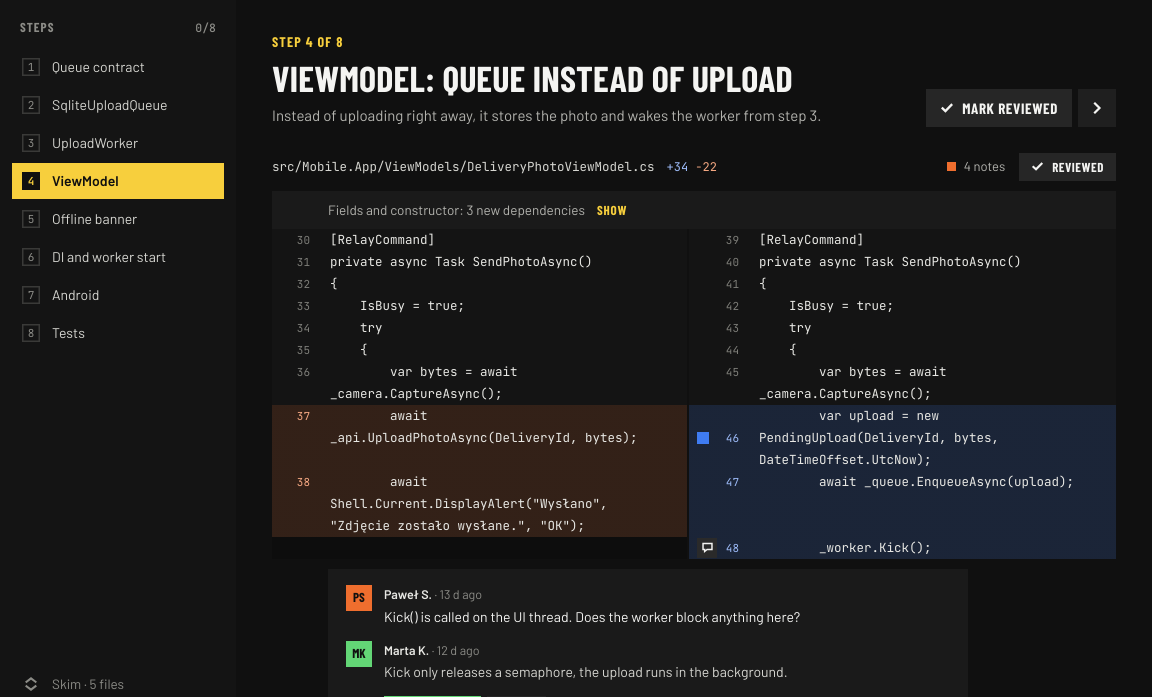
S-03 layout A › F-07.5 a severity square per note; a square opens its note under the line
This screenshot has width=1152, height=697.
Step 1. Click the button named "Note 1: The whole photo goes into SQLite as byte[]" → (703, 438), box [697,432,709,444]
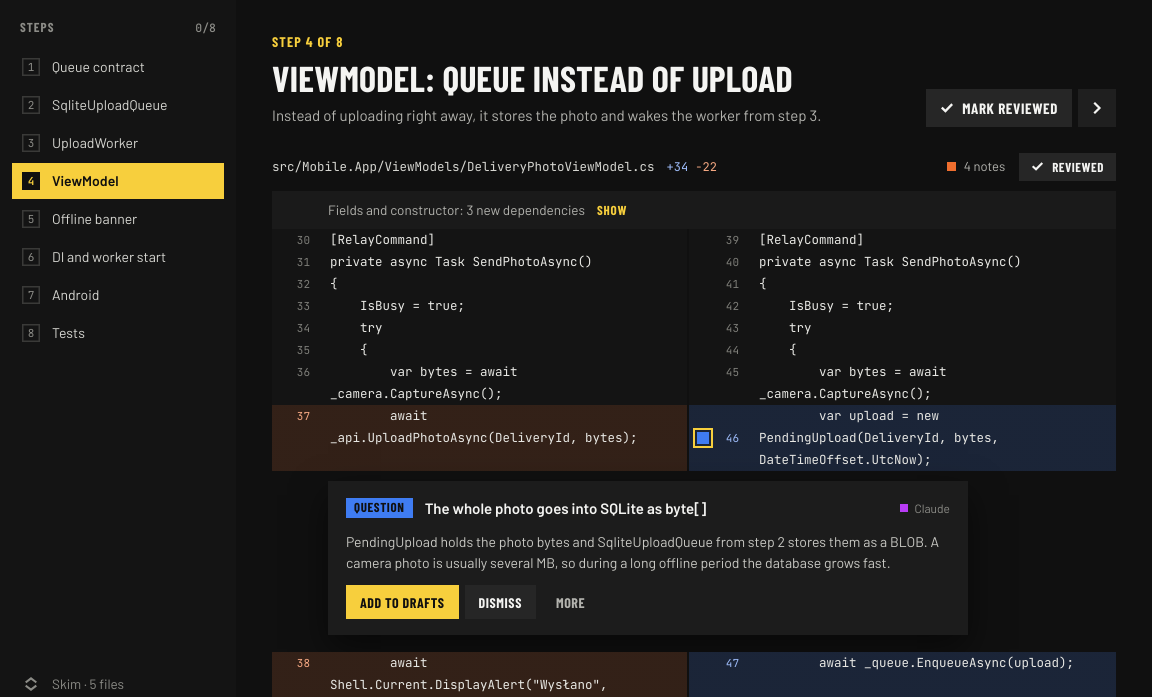
Expected: the element named "Claude note: The whole photo goes into SQLite as byte[]" is shown, [328,481,968,635]
